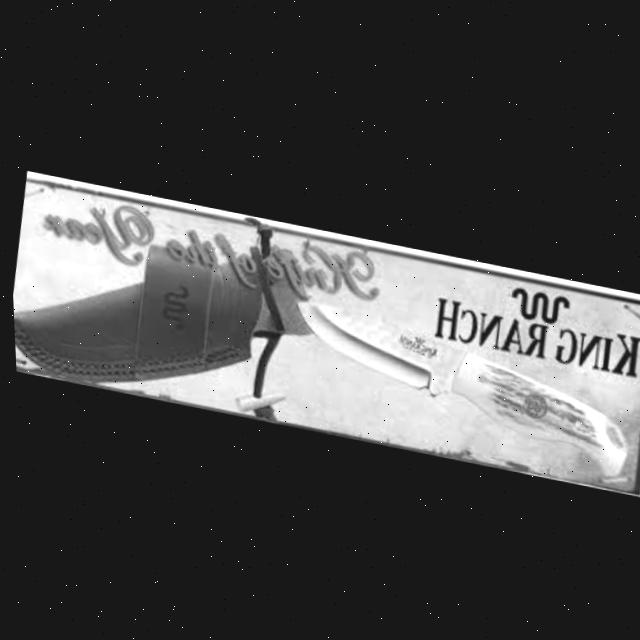Knife: (278, 293, 638, 472)
